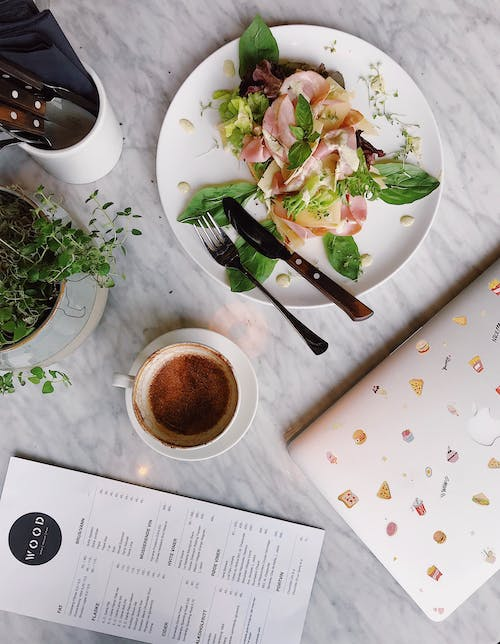knife: (221, 194, 375, 325), (0, 69, 99, 135), (0, 103, 86, 150)
